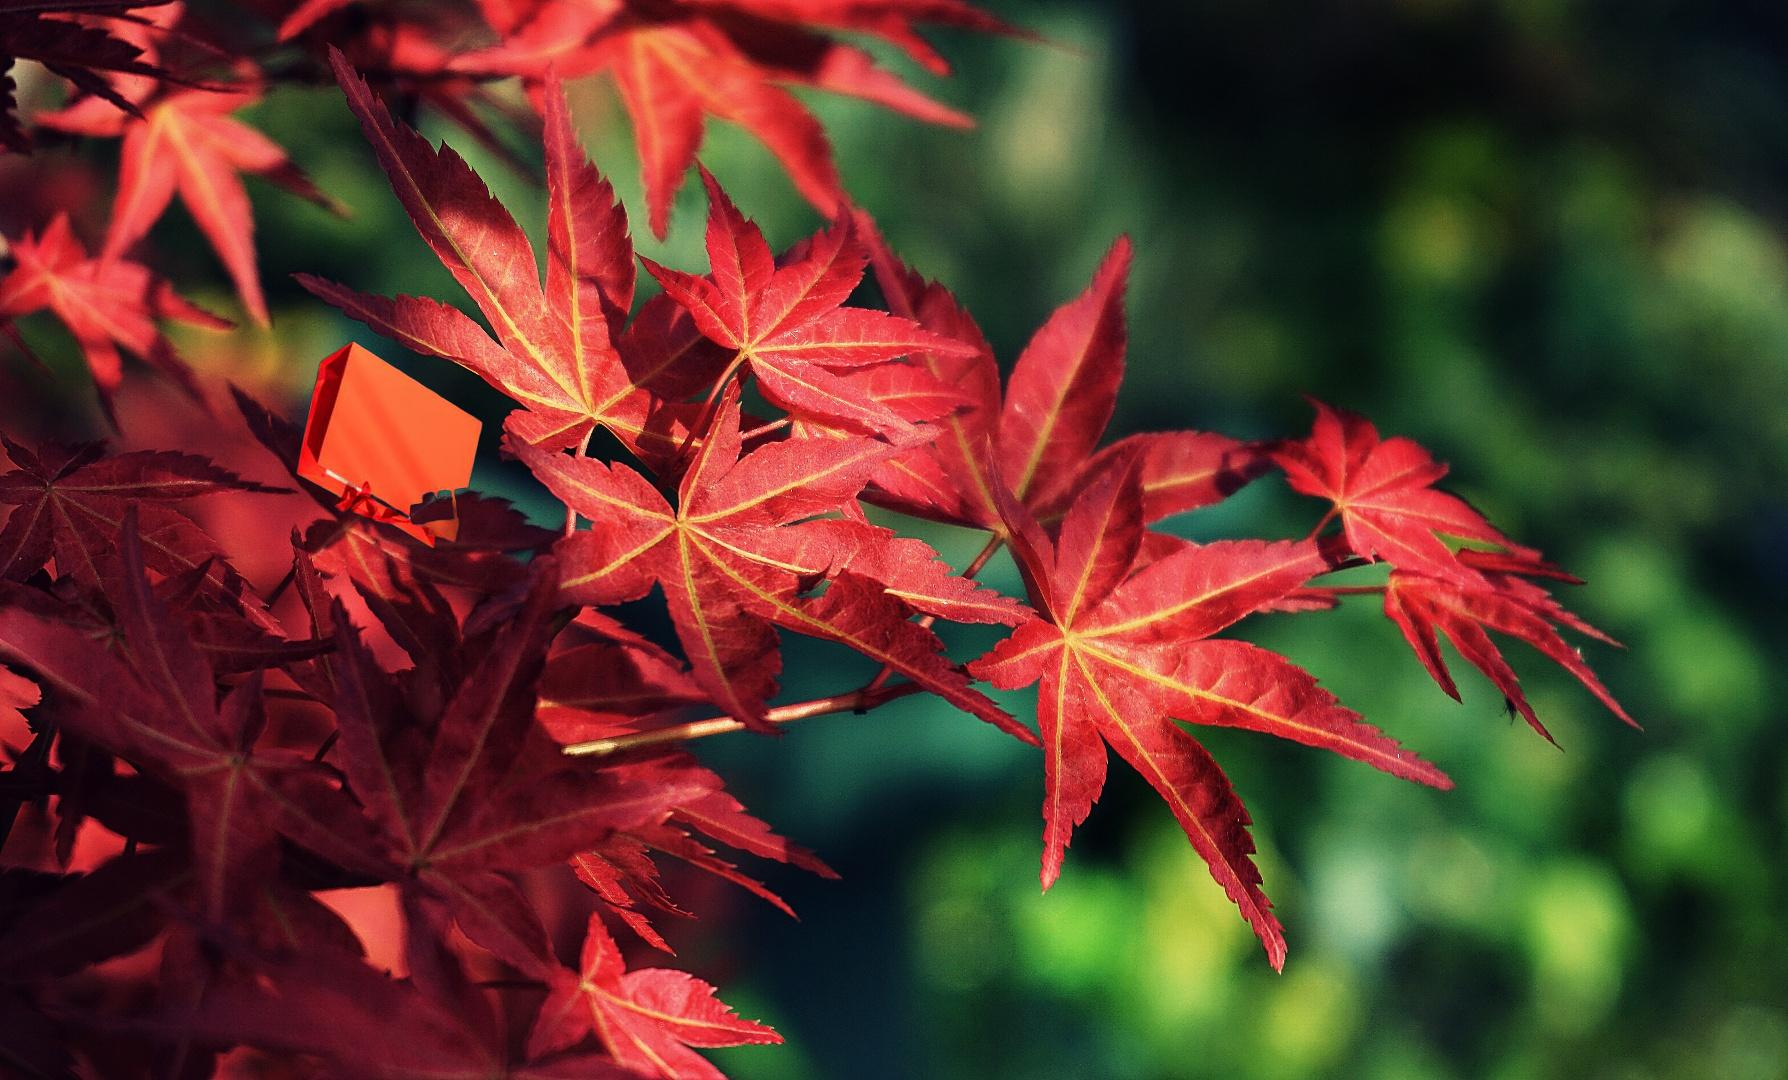paper-bag: (295, 340, 487, 603)
